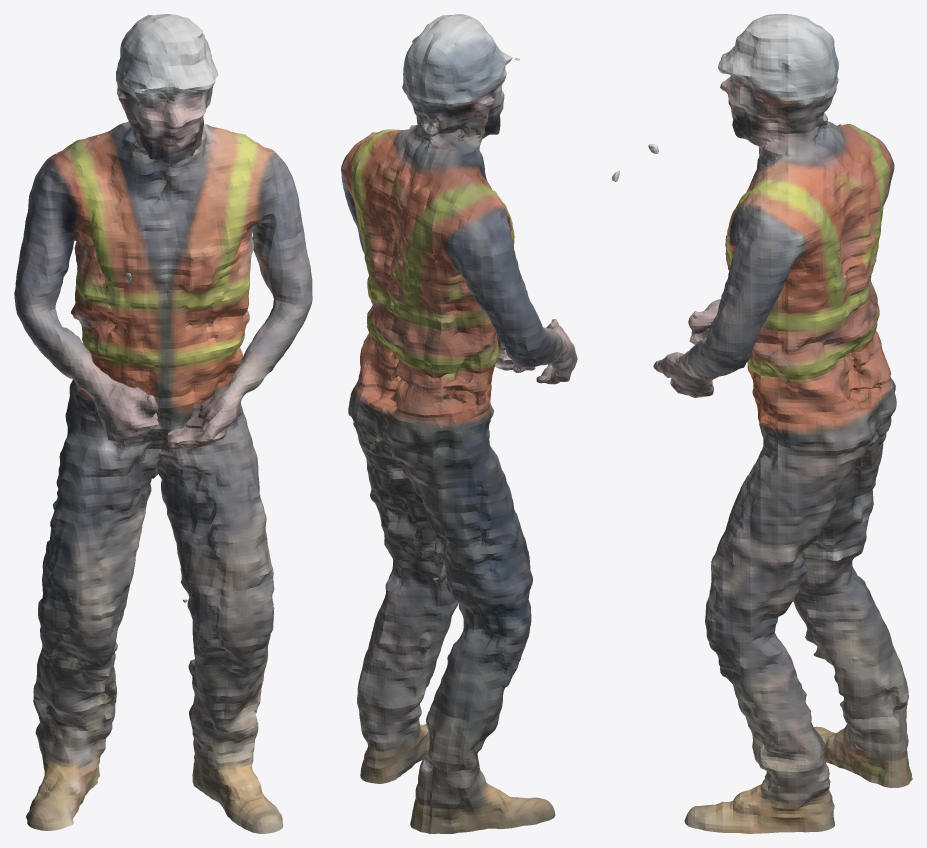
File: standup_19.glb
The picture shows the model from 3 angles, left to right: view 1: azimuth 30°, elevation 25°; view 2: azimuth 150°, elevation 25°; view 3: azimuth 270°, elevation 25°; orthographic projection. The views are drawn at different scales.
Parts seen in each view (by area): view 1: world; view 2: world; view 3: world.
Boxes of the visible parts, x1=… form: world: x1=14, y1=14, x2=312, y2=833; world: x1=341, y1=14, x2=619, y2=833; world: x1=648, y1=14, x2=912, y2=833.
Bounding box in the file's own units: 0.6167 × 1.94 × 0.6003.
